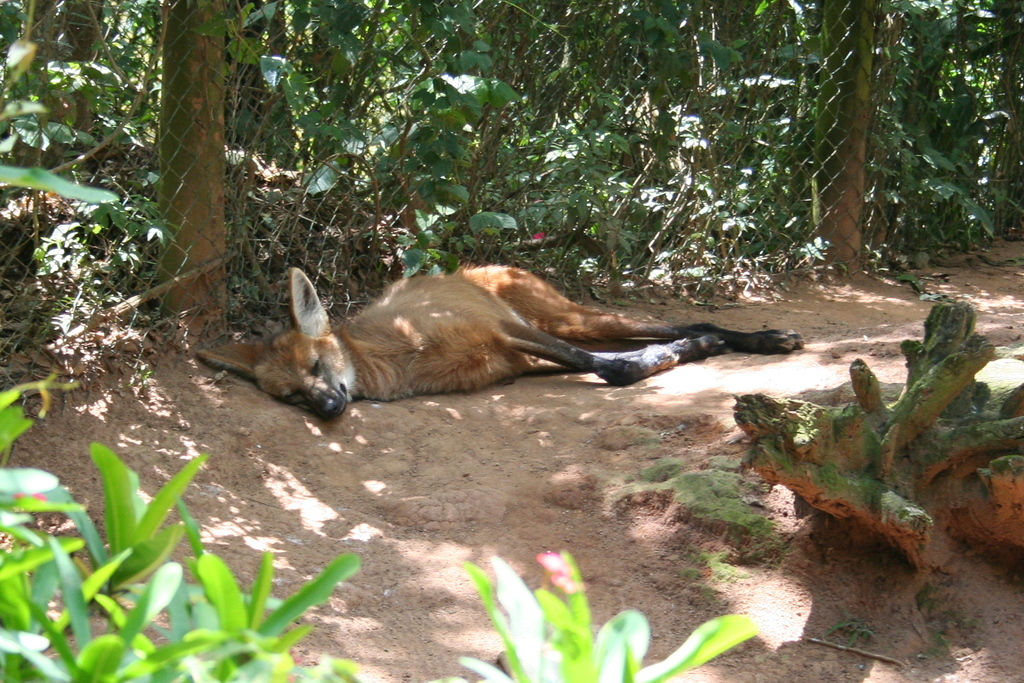kangaroo: (186, 270, 801, 423)
